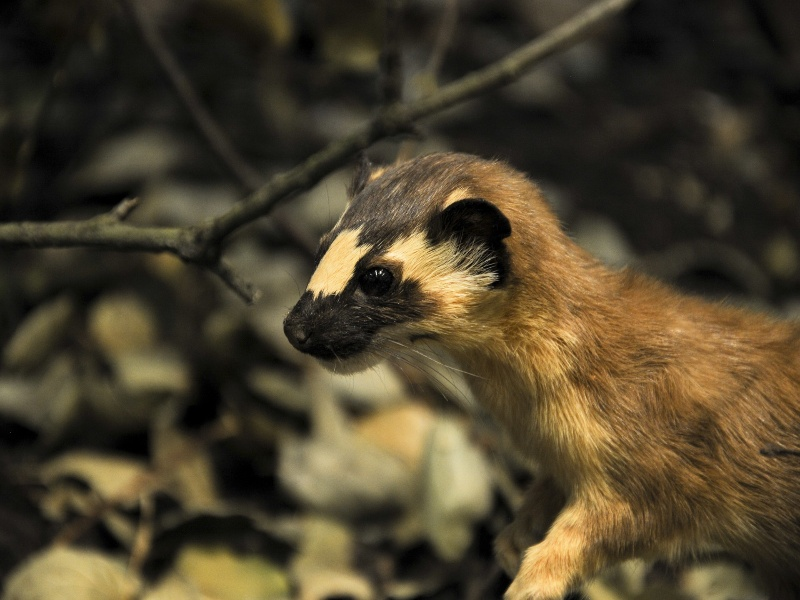minkish: (282, 145, 800, 595)
